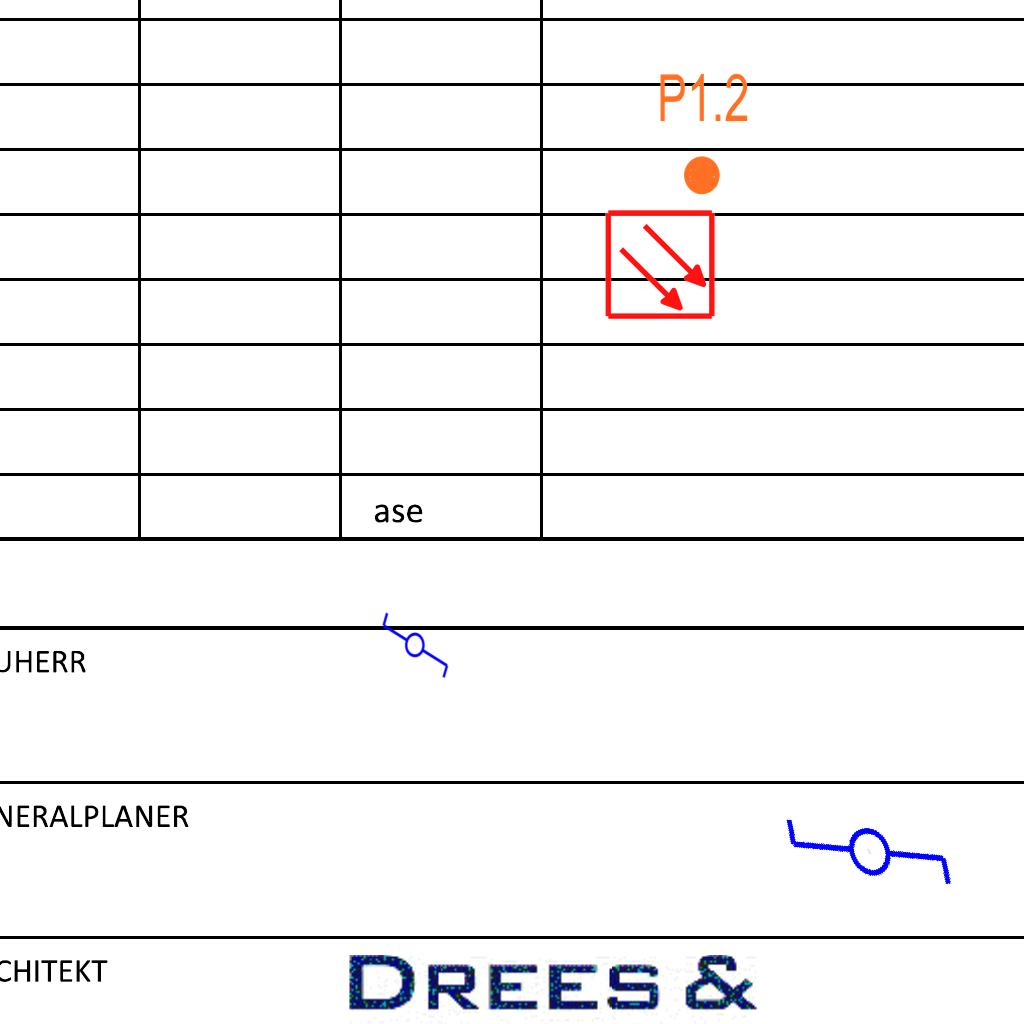Downlight_LED_Einbauleuchten_Flur: (657, 70, 750, 198)
RMO_Rauchmelder_optischer: (604, 208, 717, 321)
Wechselschalter: (771, 757, 972, 963), (380, 602, 452, 680)
